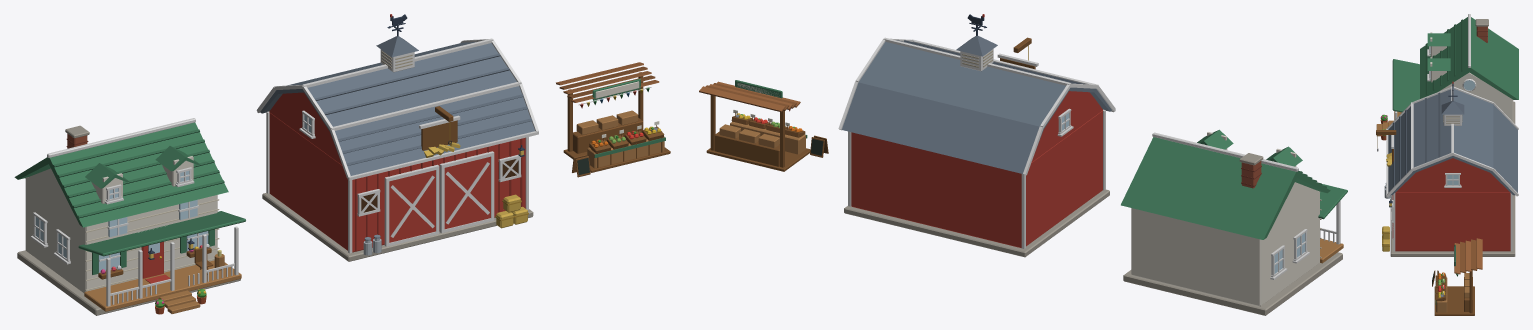
File: farm.glb
3 renders of one model, left to right at view 1: azimuth 30°, elevation 25°; view 2: azimuth 150°, elevation 25°; view 3: azimuth 270°, elevation 25°, orthographic. The views are drawn at different scales.
Parts seen in each view (by area): view 1: fm_barn_mesh, fm_farmhouse_mesh, fm_stand_mesh; view 2: fm_barn_mesh, fm_farmhouse_mesh, fm_stand_mesh; view 3: fm_barn_mesh, fm_farmhouse_mesh, fm_stand_mesh.
Part boxes in pixels (<box>): fm_barn_mesh: <box>256,24,538,261</box>; fm_farmhouse_mesh: <box>14,118,245,315</box>; fm_stand_mesh: <box>556,62,670,177</box>; fm_barn_mesh: <box>838,24,1115,257</box>; fm_farmhouse_mesh: <box>1121,129,1347,315</box>; fm_stand_mesh: <box>699,80,828,171</box>; fm_barn_mesh: <box>1376,86,1518,256</box>; fm_farmhouse_mesh: <box>1376,14,1518,140</box>; fm_stand_mesh: <box>1432,238,1482,315</box>.
Bounding box in the file's own units: 27.25 × 8.47 × 7.8.
